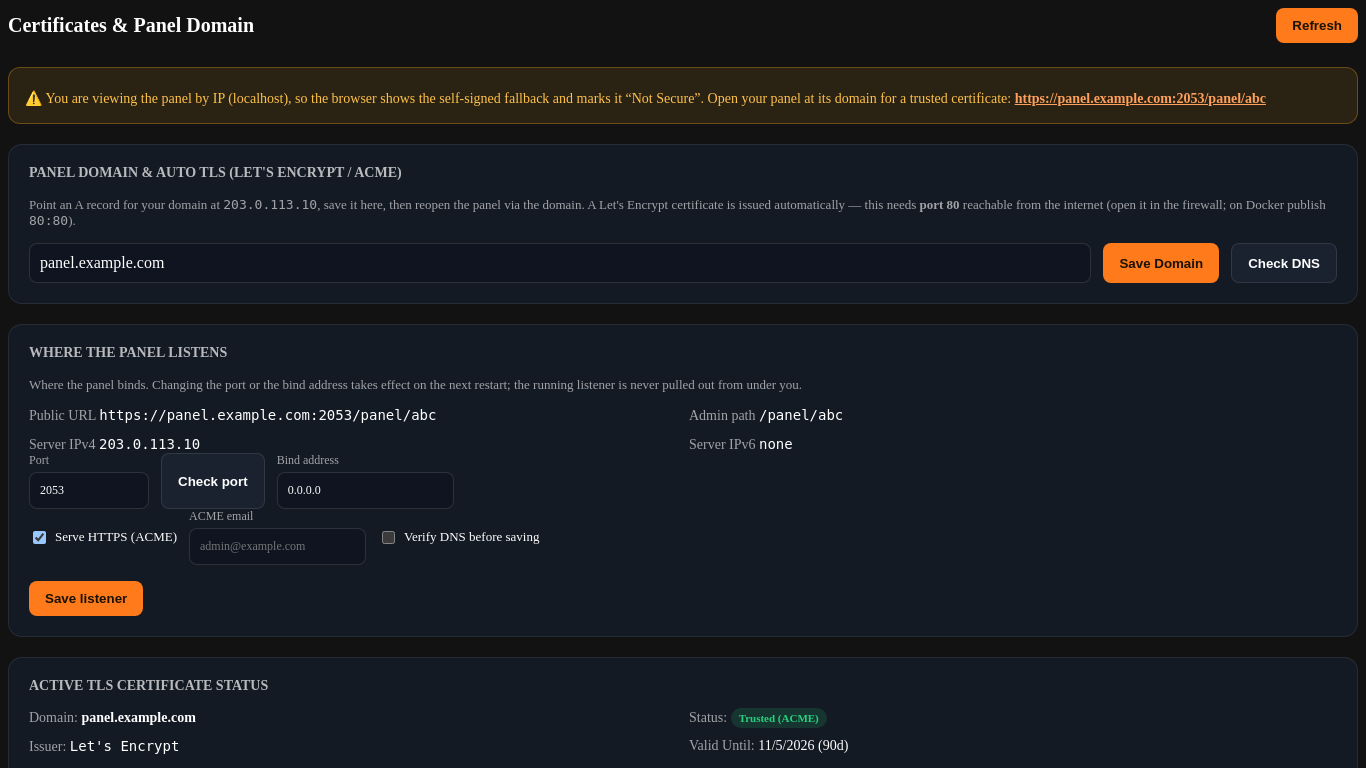
it: CertificatesView panel listener › refuses a bind address that is not an IP
Type "localhost" into the field with test id "bind-input" at coordinates (365, 490), box [277,472,454,509]
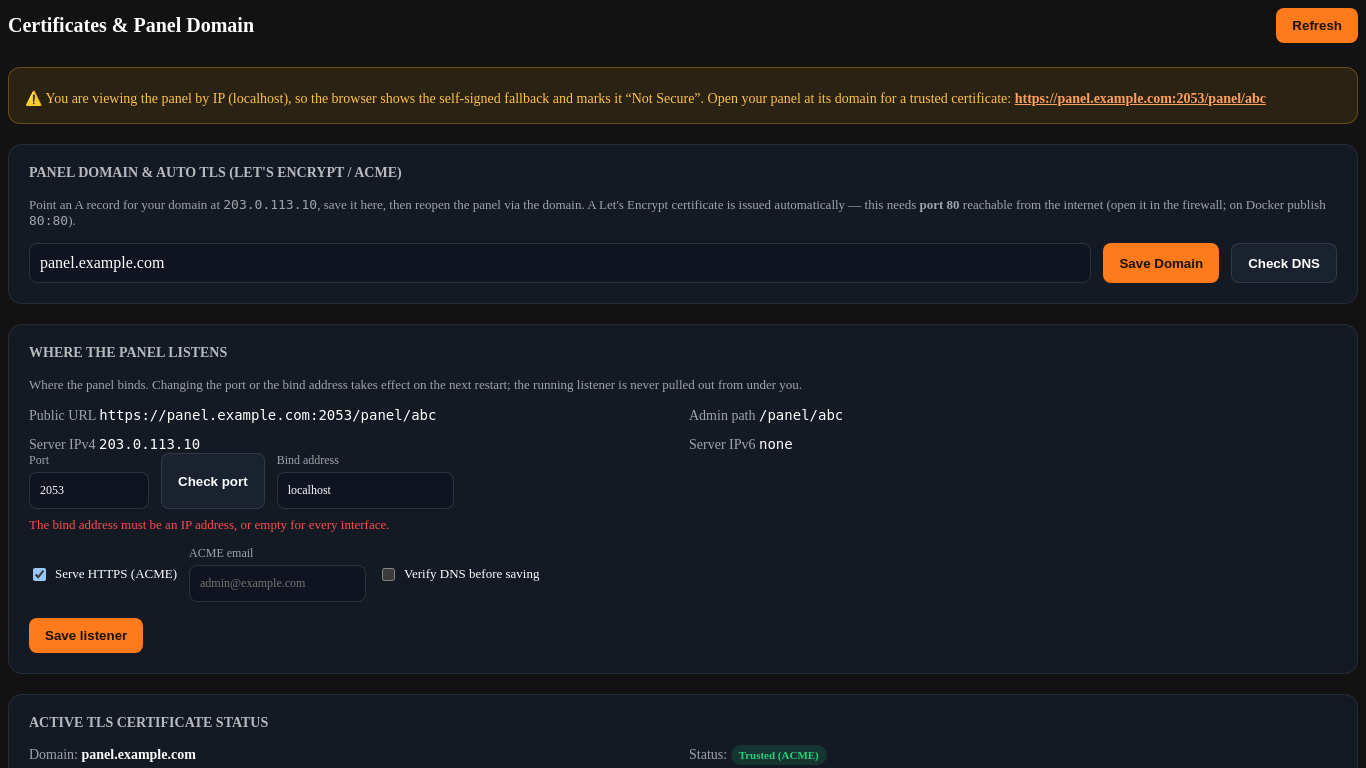
Now the text with test id "bind-invalid" is shown, box [29,517,390,532]
